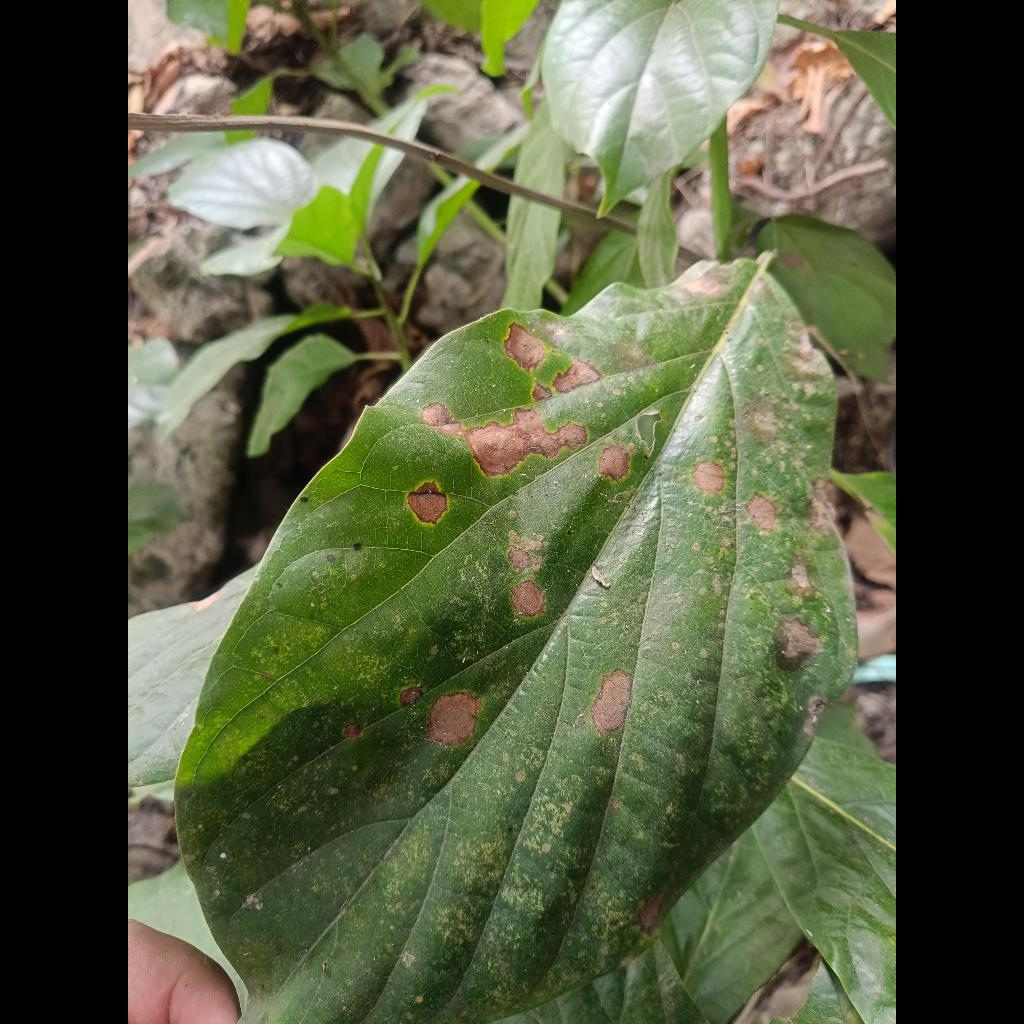Anthracnose: (174, 255, 856, 1024)
